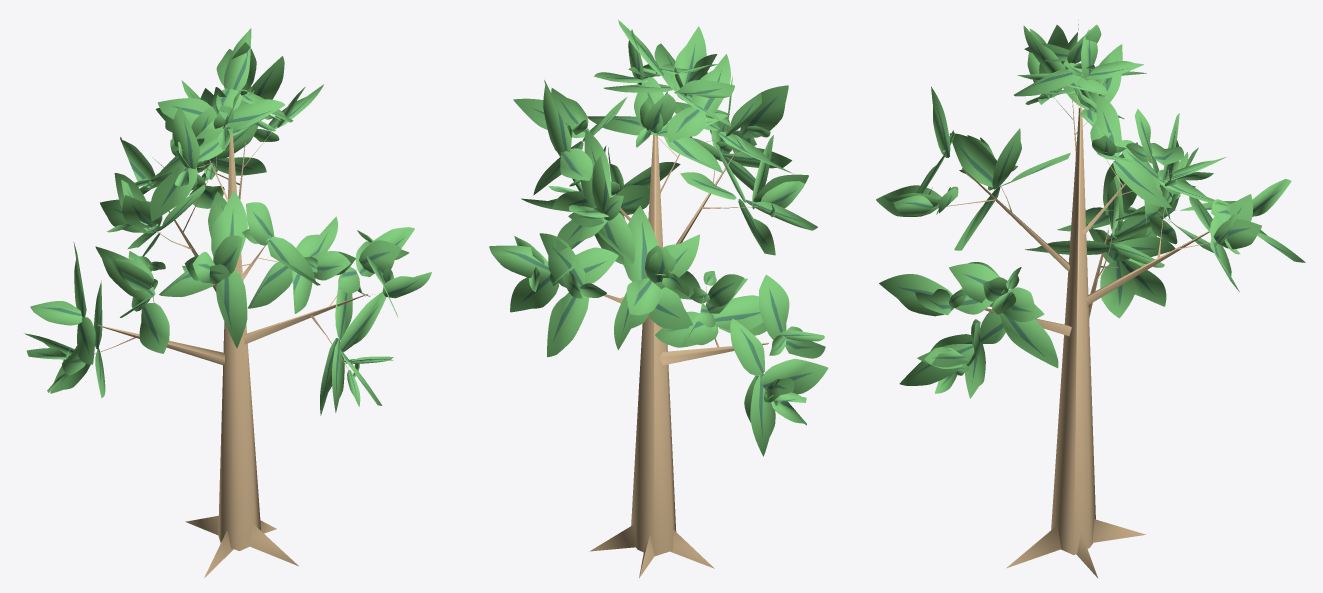
Rendered from arbreBase 1.fbx.
3 renders of one model, left to right at view 1: azimuth 30°, elevation 25°; view 2: azimuth 150°, elevation 25°; view 3: azimuth 270°, elevation 25°, orthographic. The views are drawn at different scales.
Parts seen in each view (by area): view 1: Tree_1, Tree_0; view 2: Tree_1, Tree_0; view 3: Tree_1, Tree_0.
Boxes of the visible parts, <box> form: Tree_1: <box>24,28,431,415</box>; Tree_0: <box>93,120,372,577</box>; Tree_1: <box>489,20,828,456</box>; Tree_0: <box>573,84,777,578</box>; Tree_1: <box>876,24,1305,398</box>; Tree_0: <box>932,92,1217,577</box>.
Size of the model in its own units: 226 by 323 by 231.
2 materials, 2 textured.
